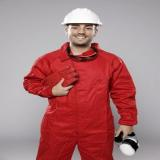Helmet: (61, 8, 103, 26)
